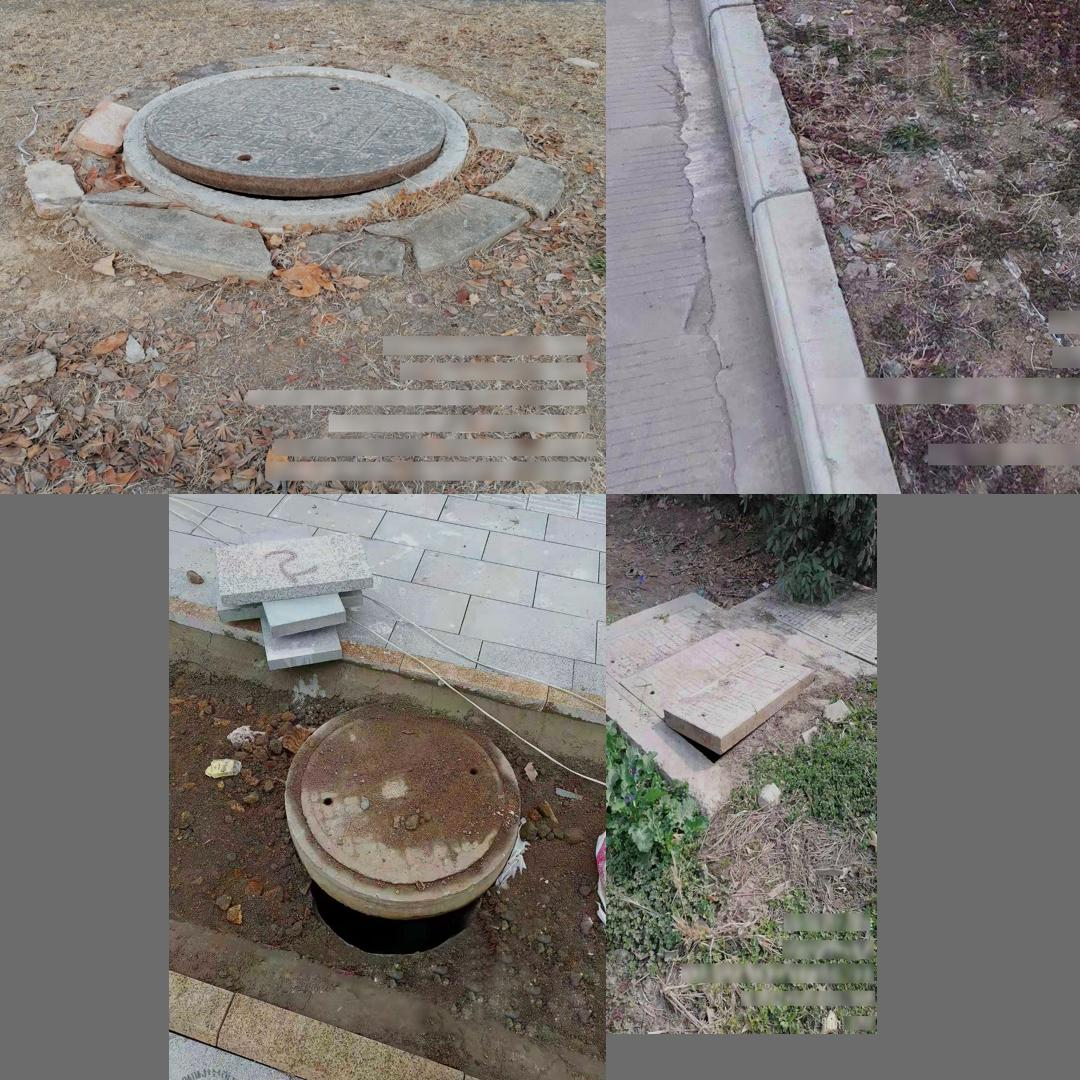good: (761, 561, 876, 665)
uncovered: (277, 701, 519, 955), (123, 62, 469, 226), (606, 597, 821, 769)
